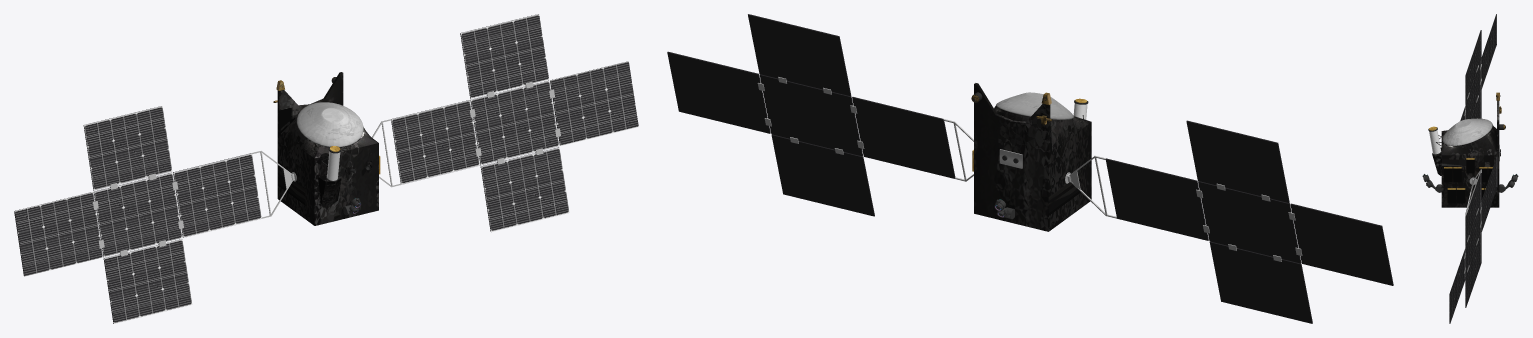
File: Psyche Spacecraft Model.fbx
3 renders of one model, left to right at view 1: azimuth 30°, elevation 25°; view 2: azimuth 150°, elevation 25°; view 3: azimuth 270°, elevation 25°, orthographic. The views are drawn at different scales.
Parts seen in each view (by area): view 1: Body, Solar, Cube.004, Cube.014, Cube.003, Cube.015, Cube.016, Cube.002, Solar.001, Cube.001, Cube.013, Radio Cover (+2 smaller); view 2: Body, Cube.015, Cube.014, Solar.001, Solar, Cube.016, Cube.004, Cube.002, Cube.003, Cube.013, Cube.001, Radio Cover (+1 smaller); view 3: Body, Radio Cover, Cube.004, Cube.002, Cube.003, Cube.015, Cube.014, Solar, Cube.001, Cube.013, DSOC, Solar.001 (+10 smaller).
Part boxes in pixels (x1,y1,x2,y2): Body: (277,72,378,225); Solar: (391,100,479,184); Cube.004: (460,14,548,98); Cube.014: (14,192,102,276); Cube.003: (480,147,569,231); Cube.015: (83,106,172,190); Cube.016: (103,239,192,323); Cube.002: (550,61,638,145); Solar.001: (173,153,261,237); Cube.001: (470,80,559,165); Cube.013: (93,172,182,257); Radio Cover: (296,102,363,147); Body: (974,83,1091,231); Cube.015: (1186,120,1289,202); Cube.014: (1290,203,1393,285); Solar.001: (1105,158,1208,240); Solar: (852,97,955,178); Cube.016: (1209,241,1312,323); Cube.004: (748,14,851,96); Cube.002: (667,51,770,133); Cube.003: (771,134,874,216); Cube.013: (1198,181,1301,263); Cube.001: (759,74,862,156); Radio Cover: (996,92,1073,119); Body: (1441,100,1499,207); Radio Cover: (1442,118,1492,145); Cube.004: (1481,157,1497,231); Cube.002: (1465,233,1481,307); Cube.003: (1449,249,1465,323); Cube.015: (1481,14,1496,89); Cube.014: (1465,30,1481,104); Solar: (1465,173,1481,246); Cube.001: (1465,203,1481,277); Cube.013: (1465,60,1481,119); DSOC: (1429,130,1441,154); Solar.001: (1471,90,1481,118).
Size of the model in its own units: 1913 by 528 by 334.
